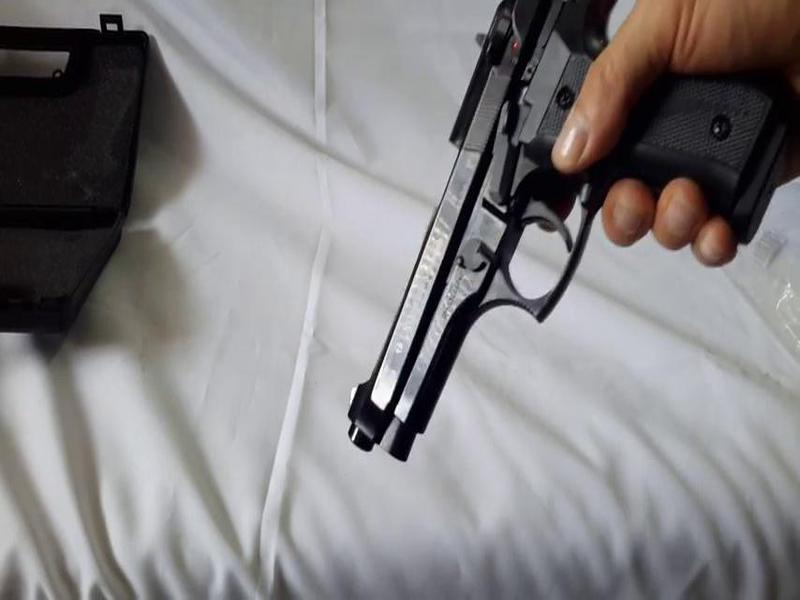Pistola: (336, 7, 773, 469)
